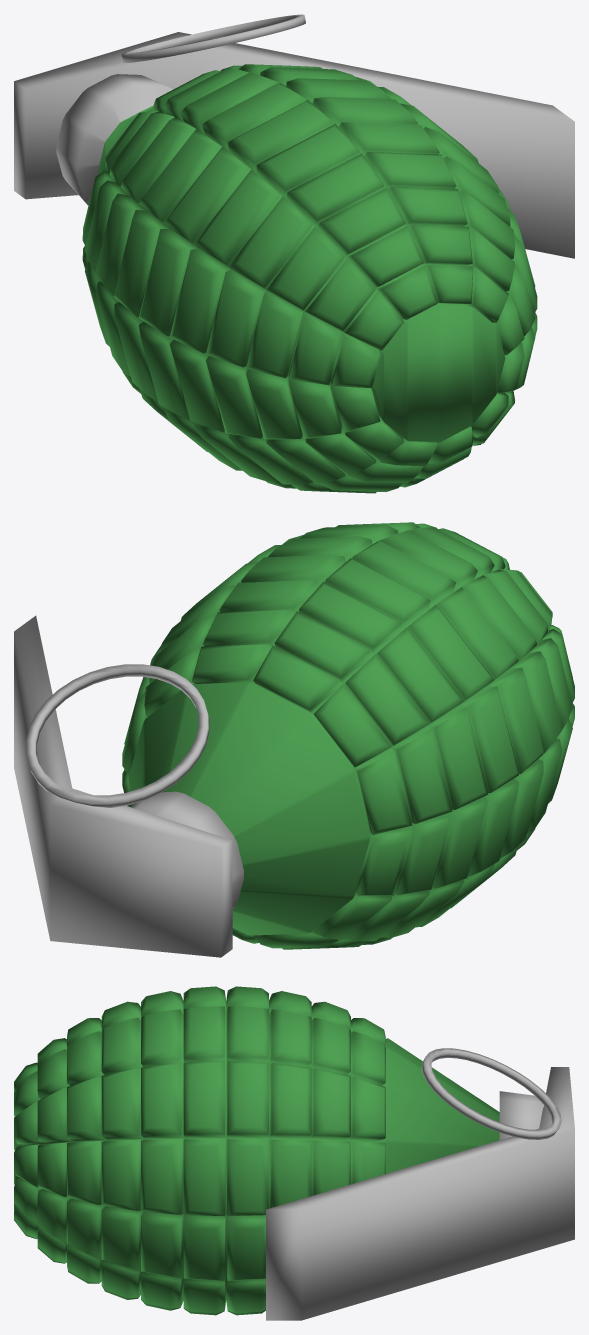
Rendered from item-fraggrenade.glb.
The picture shows the model from 3 angles, top to bottom: view 1: azimuth 30°, elevation 25°; view 2: azimuth 150°, elevation 25°; view 3: azimuth 270°, elevation 25°; orthographic projection. The views are drawn at different scales.
Size of the model in its own units: 2.9 by 2.19 by 3.74.
